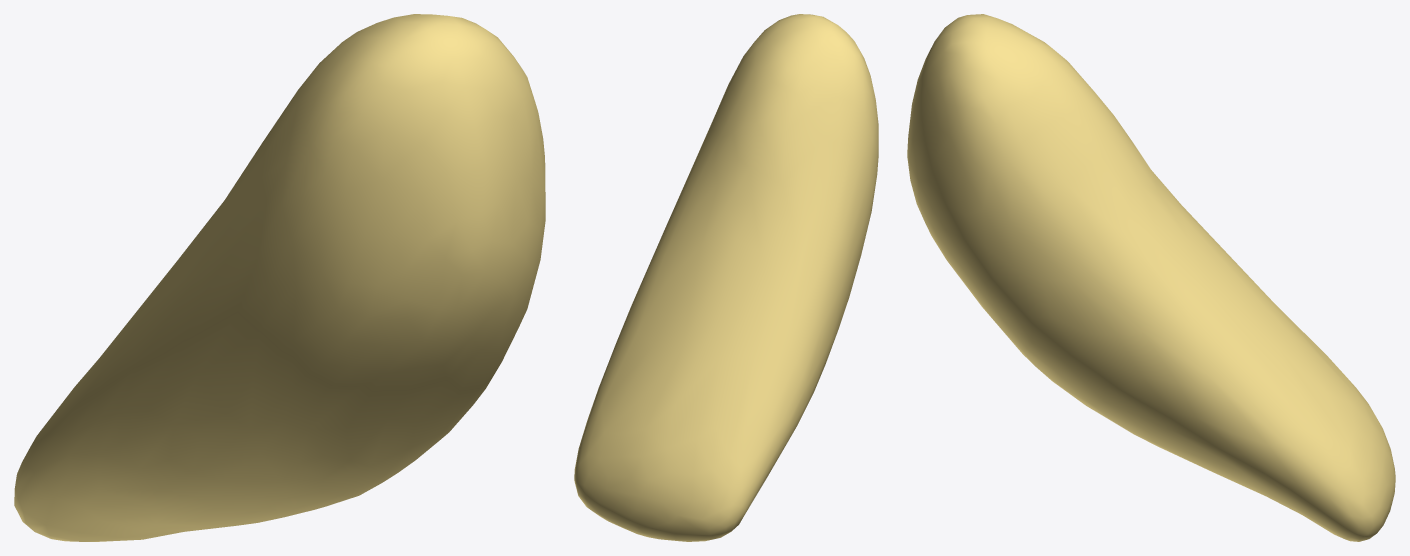
The model's file is fma256416_mm3217.glb.
The picture shows the model from 3 angles, left to right: view 1: azimuth 30°, elevation 25°; view 2: azimuth 150°, elevation 25°; view 3: azimuth 270°, elevation 25°; orthographic projection. The views are drawn at different scales.
Parts seen in each view (by area): view 1: FMA256416_MM3217; view 2: FMA256416_MM3217; view 3: FMA256416_MM3217.
Part boxes in pixels (<box>): FMA256416_MM3217: <box>14,14,545,541</box>; FMA256416_MM3217: <box>574,14,878,541</box>; FMA256416_MM3217: <box>907,14,1395,541</box>.
Size of the model in its own units: 0.00713 by 0.0151 by 0.0134.
